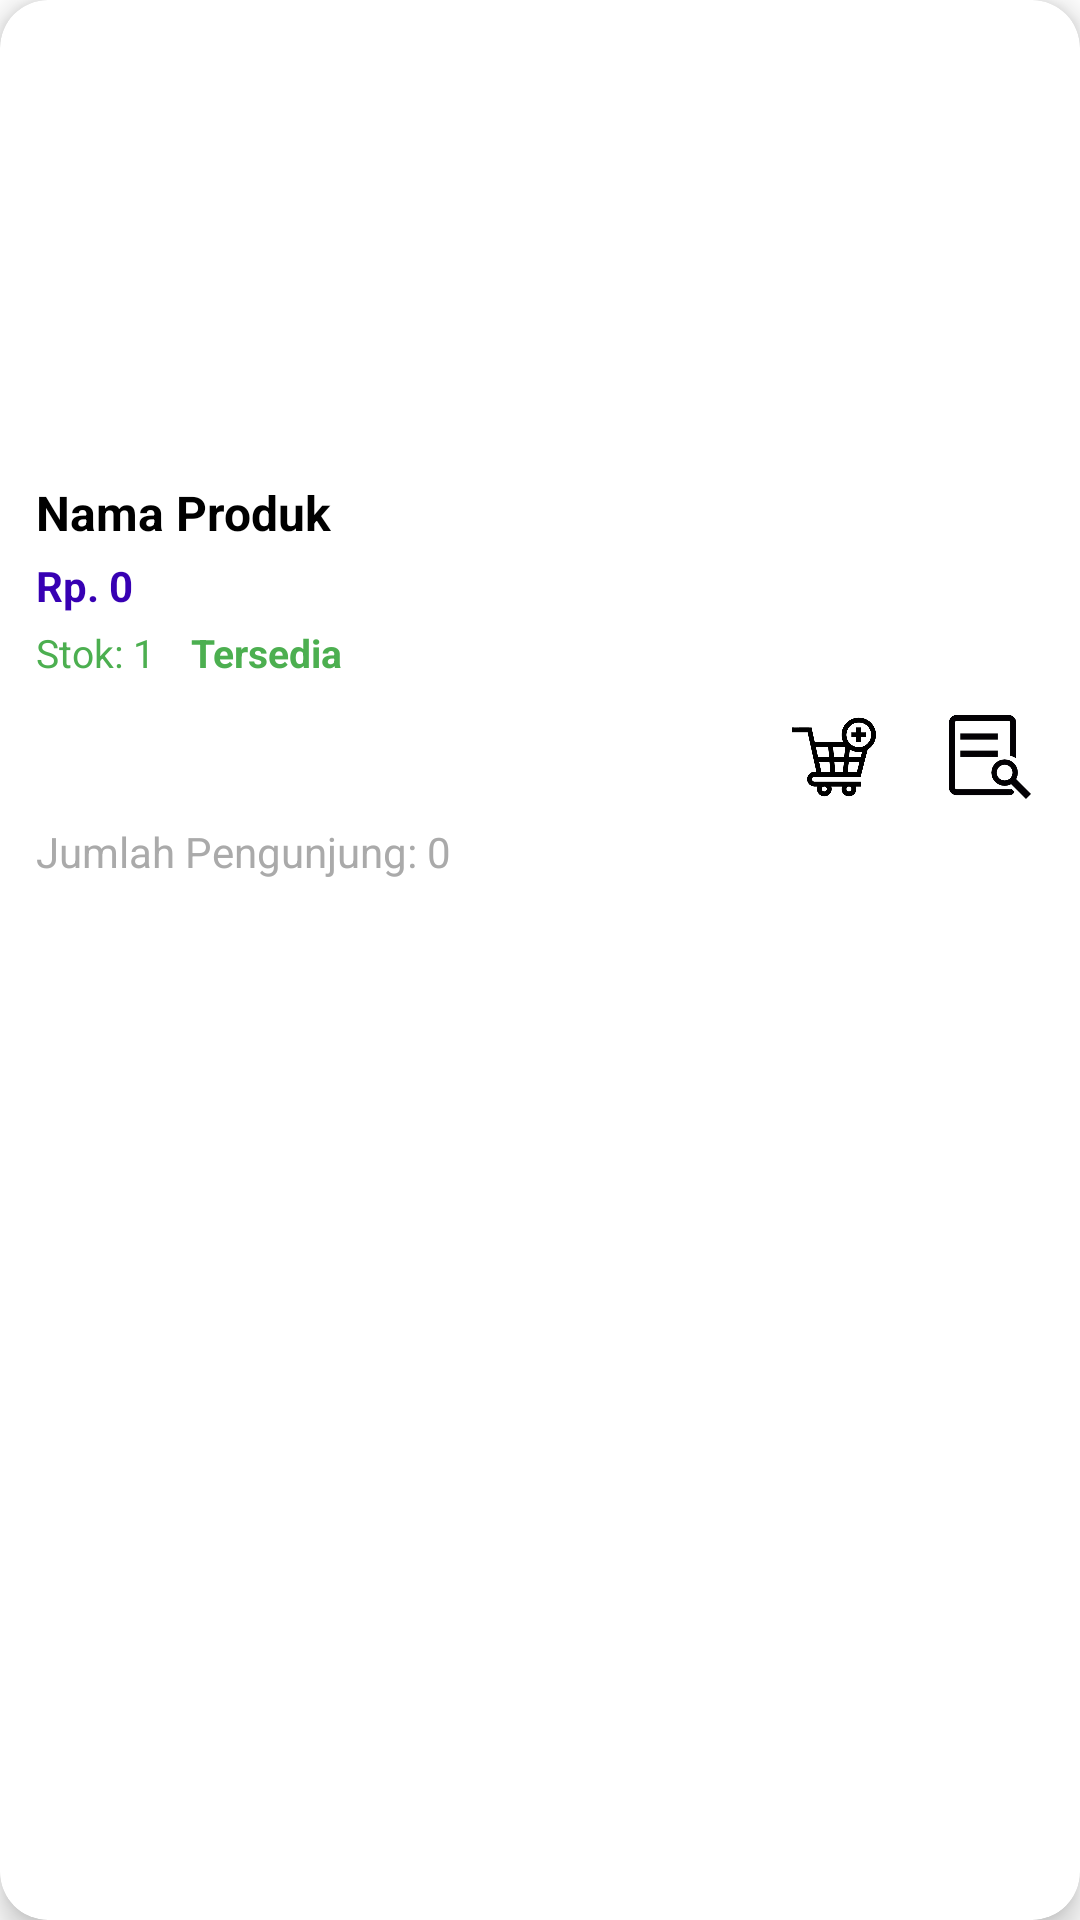

Screen size 1080*1920. Icon name, then its box in pixels as [x1,y1,x2,y2]:
Lihat detail produk: [949,715,1031,799]
Tambah ke keranjang: [792,717,876,796]
